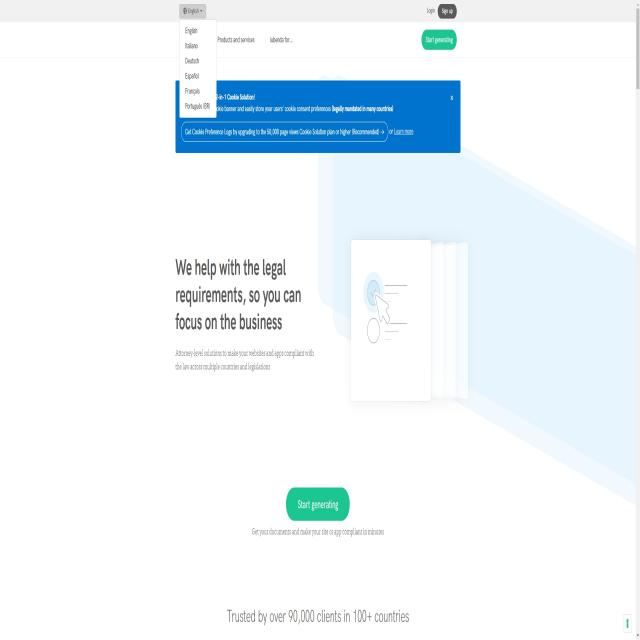menu-bar: (422, 2, 459, 21)
tab-bar: (217, 25, 459, 53)
